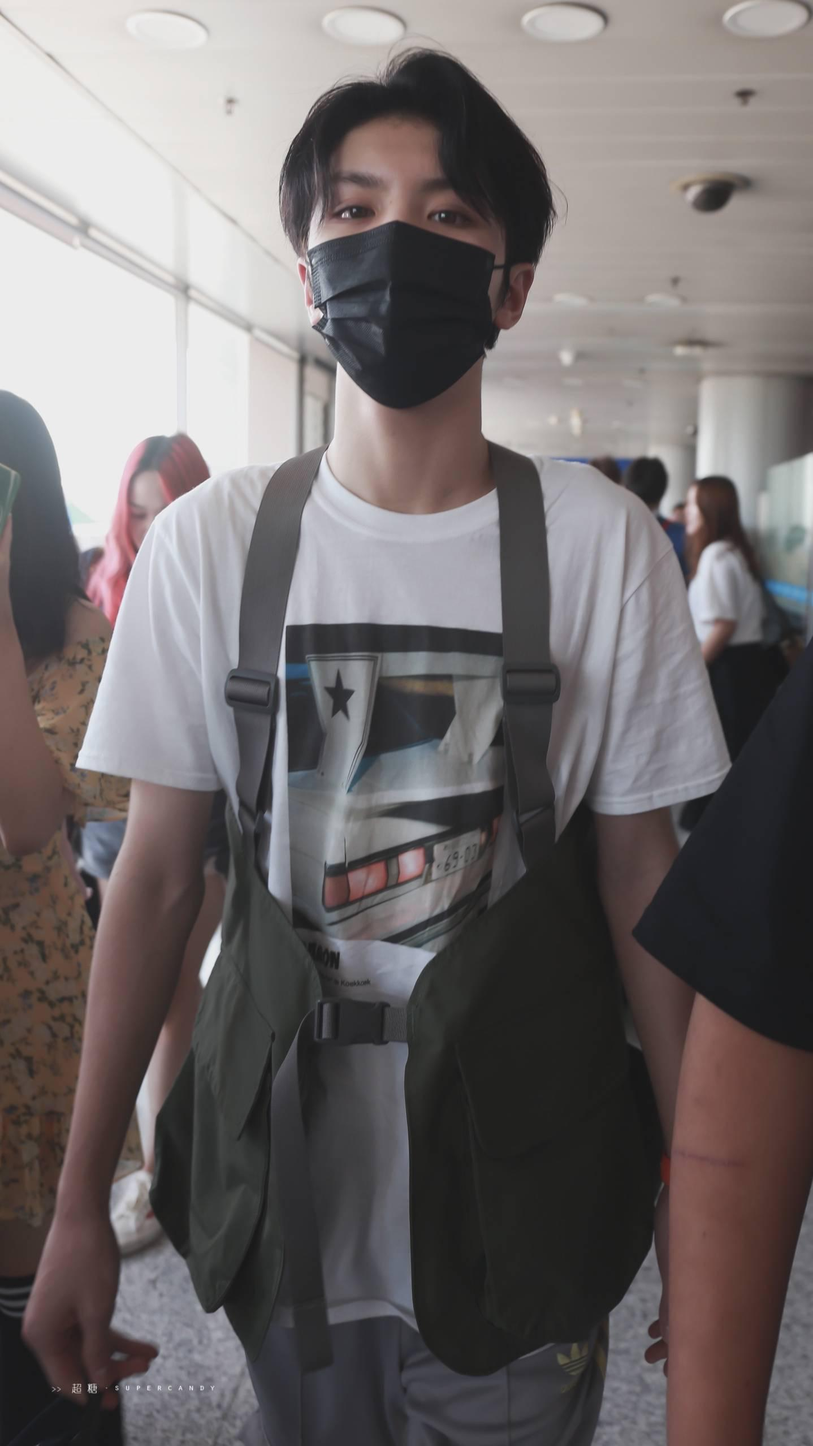NONE: (682, 489, 708, 535)
OK: (309, 162, 499, 411)
